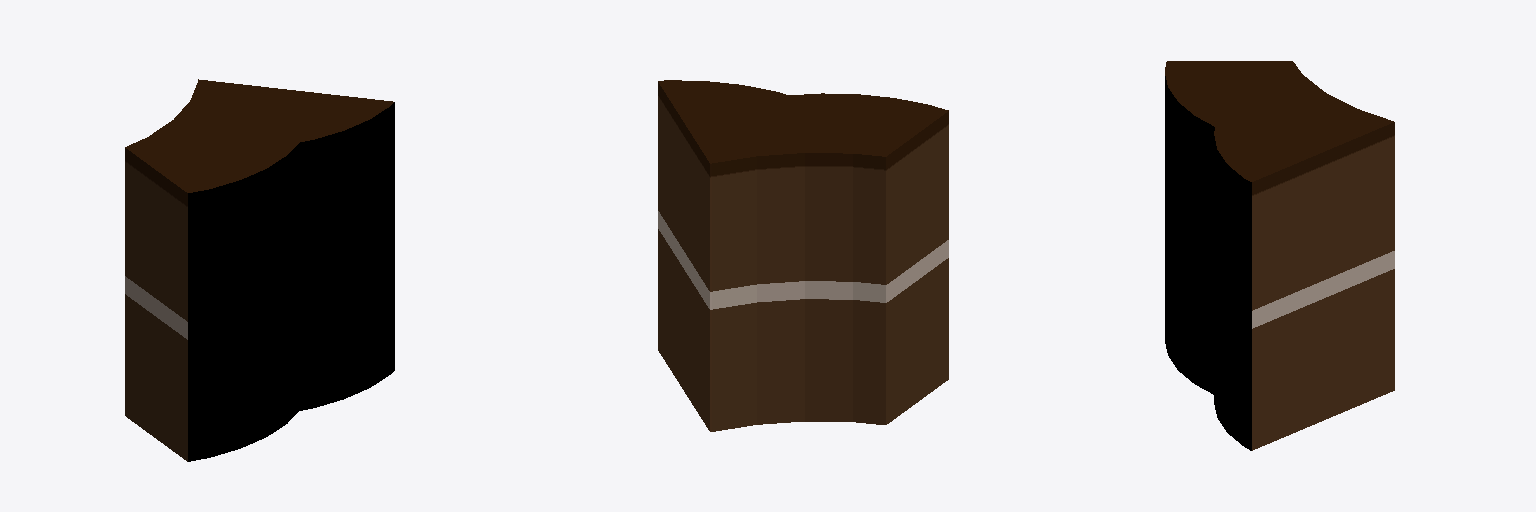
The picture shows the model from 3 angles: view 1: azimuth 30°, elevation 25°; view 2: azimuth 150°, elevation 25°; view 3: azimuth 270°, elevation 25°; orthographic projection.
Parts seen in each view (by area): view 1: slice1_2_Cube.000; view 2: slice1_2_Cube.000; view 3: slice1_2_Cube.000.
Boxes of the visible parts, box(x1,y1,x2,y2) form: slice1_2_Cube.000: box(125, 79, 394, 461); slice1_2_Cube.000: box(658, 80, 948, 431); slice1_2_Cube.000: box(1165, 61, 1394, 450).
Size of the model in its own units: 1.17 by 1.2 by 0.935.
Materials: 1 (1 with a texture image).